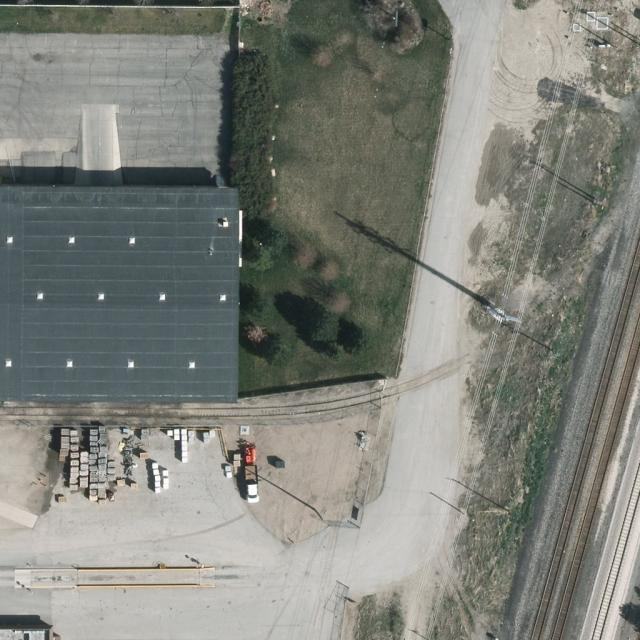vehicle: (237, 464, 267, 504)
